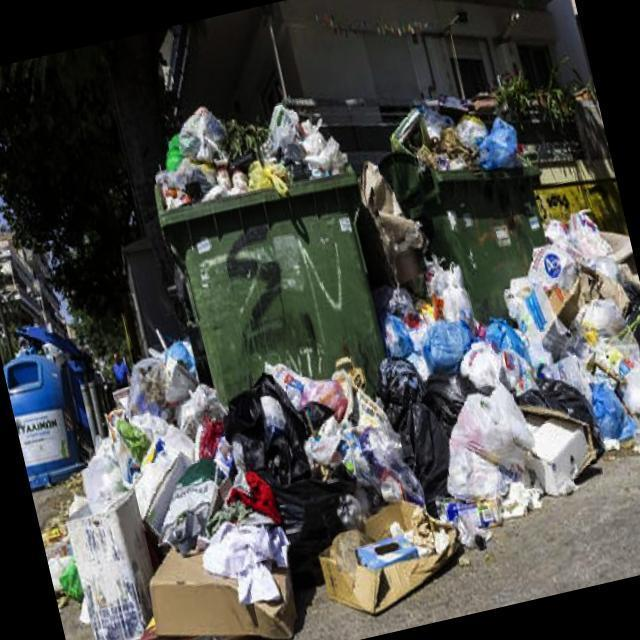garbage: (126, 261, 520, 640), (388, 38, 640, 522), (128, 62, 440, 324), (11, 377, 198, 640)
